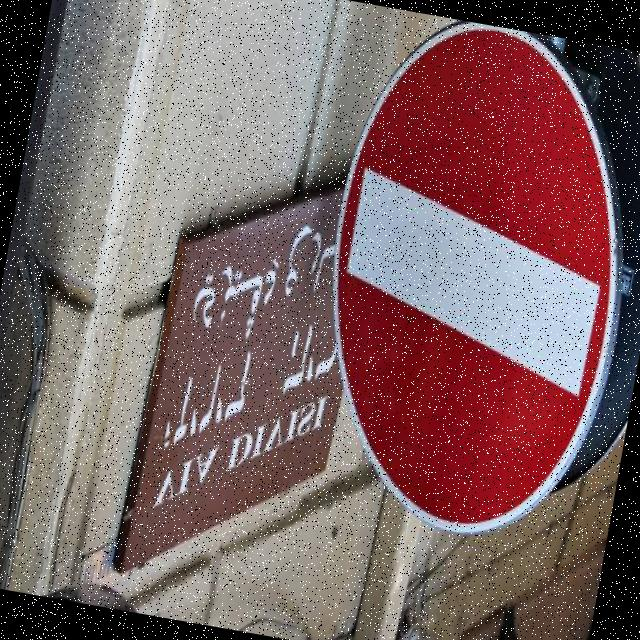do_not_enter: (285, 4, 640, 557)
